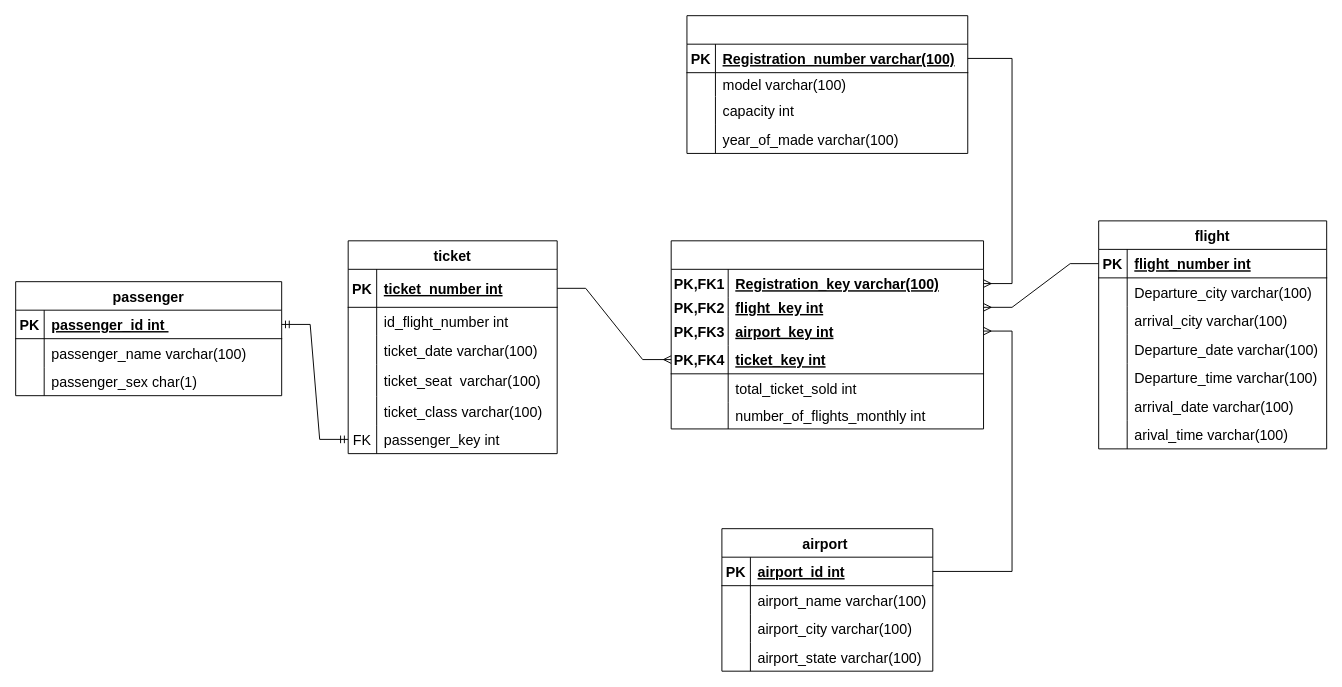
Image size: 1342x687. Some labels were removed from this diagram. Here are the shapes that lost their labels. From the top down, the box of each, then its label:
(686, 15, 968, 153): Airplane
(670, 240, 984, 429): Sales_Fact
